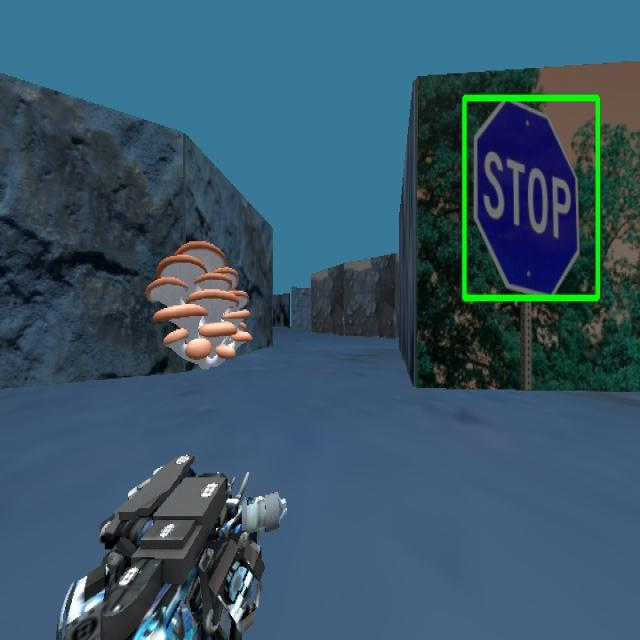Mushroom: (145, 239, 251, 368)
Stop_Sign: (459, 92, 601, 303)
